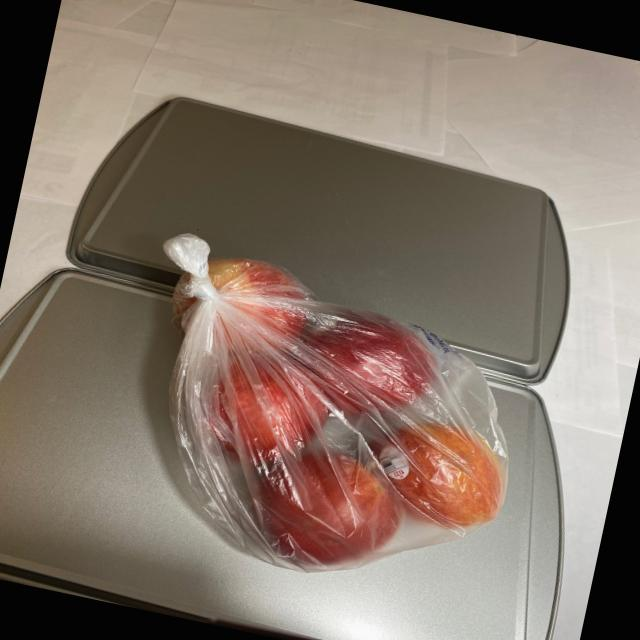apple: (124, 244, 551, 603)
